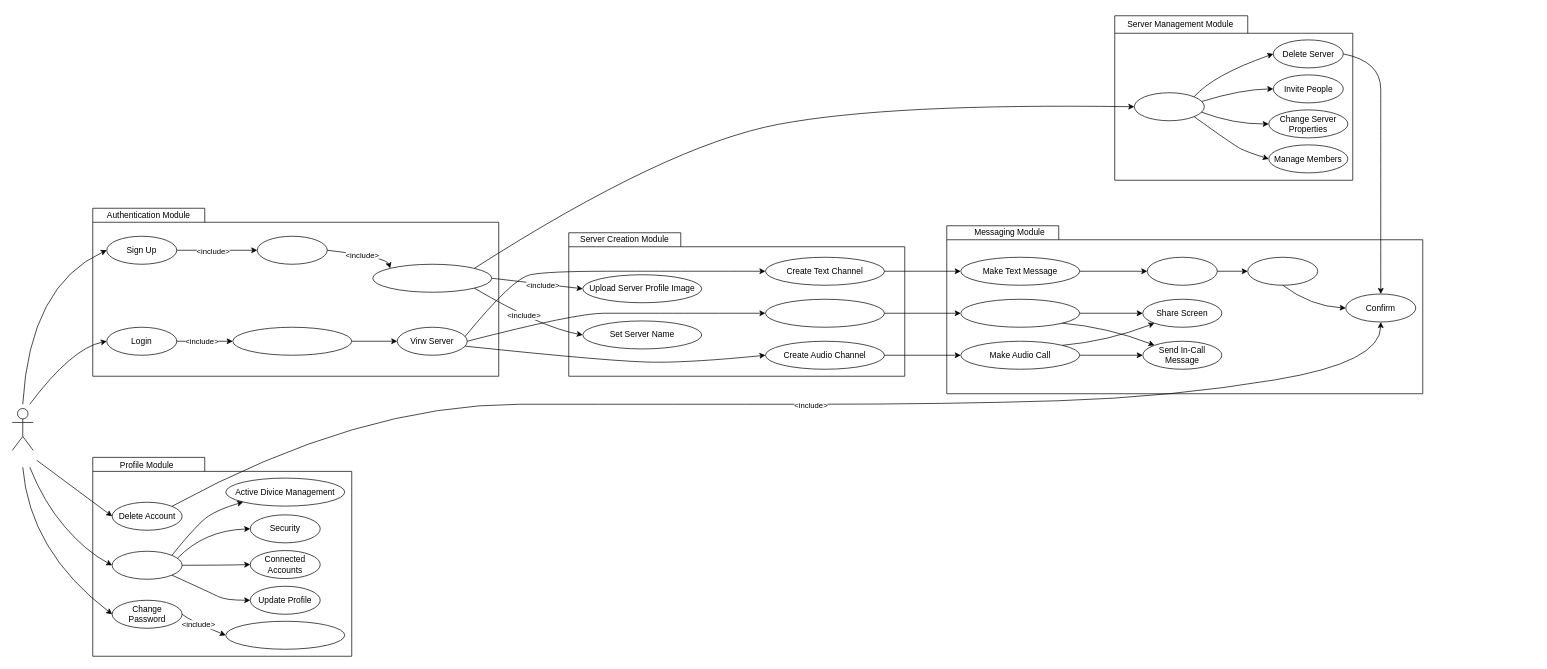
The diagram is 1547 pixels wide and 669 high, and some of its shapes have lost their labels. Each missing label, with the centre of its shape:
"Access Default Server" belongs at point (292, 341).
"Actor" belongs at point (22, 429).
"Create Default Server" belongs at point (432, 278).
"Create Video Channel" belongs at point (824, 313).
"Delete Message" belongs at point (1282, 271).
"Edit Message" belongs at point (1182, 271).
"Make Video Call" belongs at point (1020, 313).
"Manage Account" belongs at point (146, 565).
"Server Settings" belongs at point (1169, 106).
"Verify Current Password" belongs at point (285, 635).
"Verify Email" belongs at point (292, 250).
